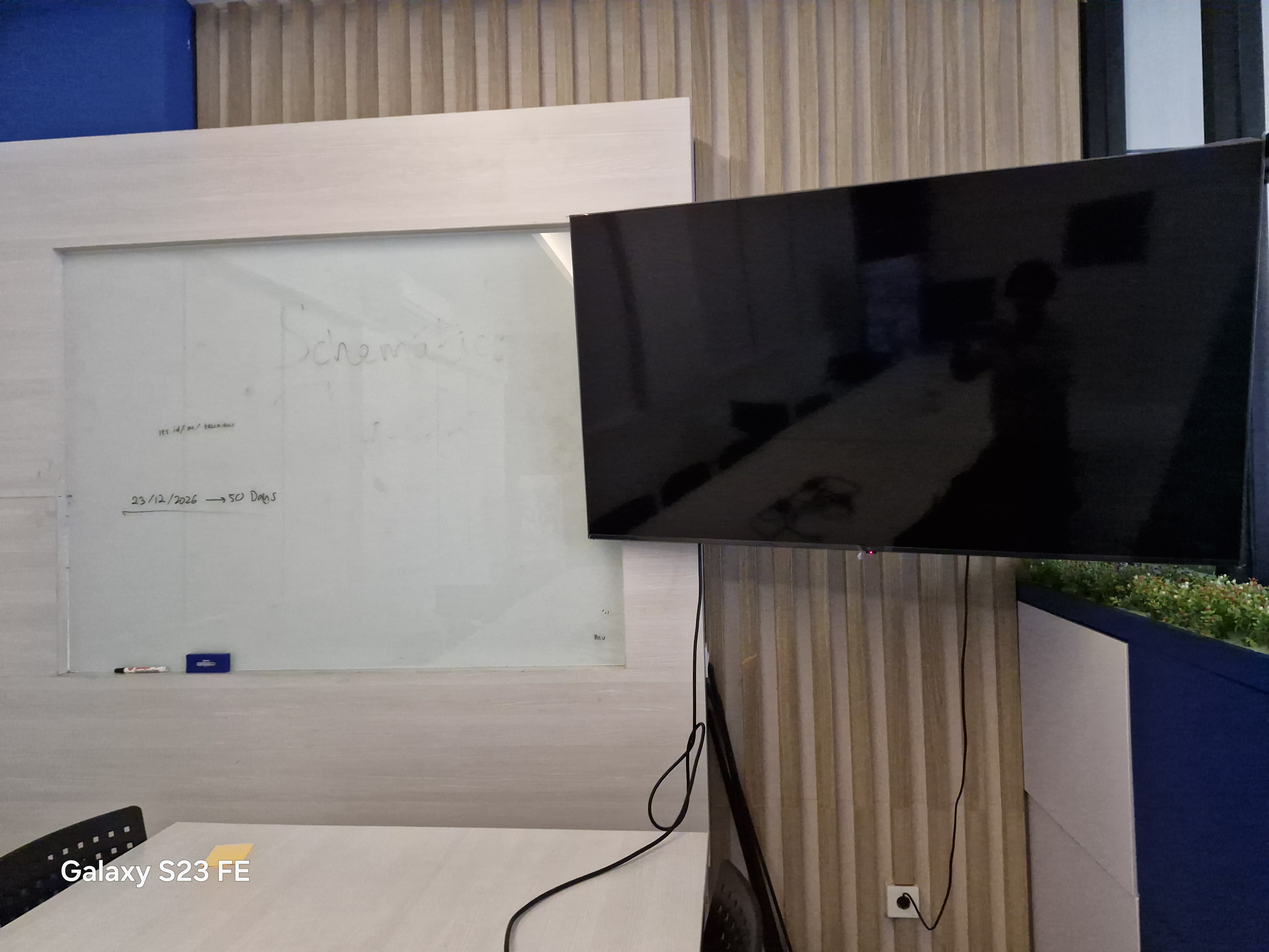chair: (0, 806, 146, 926)
plug: (886, 885, 919, 918)
table-merged: (0, 823, 711, 951)
tv: (571, 140, 1263, 563)
wall-other-merged: (0, 0, 190, 138)
wall-wood: (191, 0, 1091, 203), (692, 540, 1091, 951)
